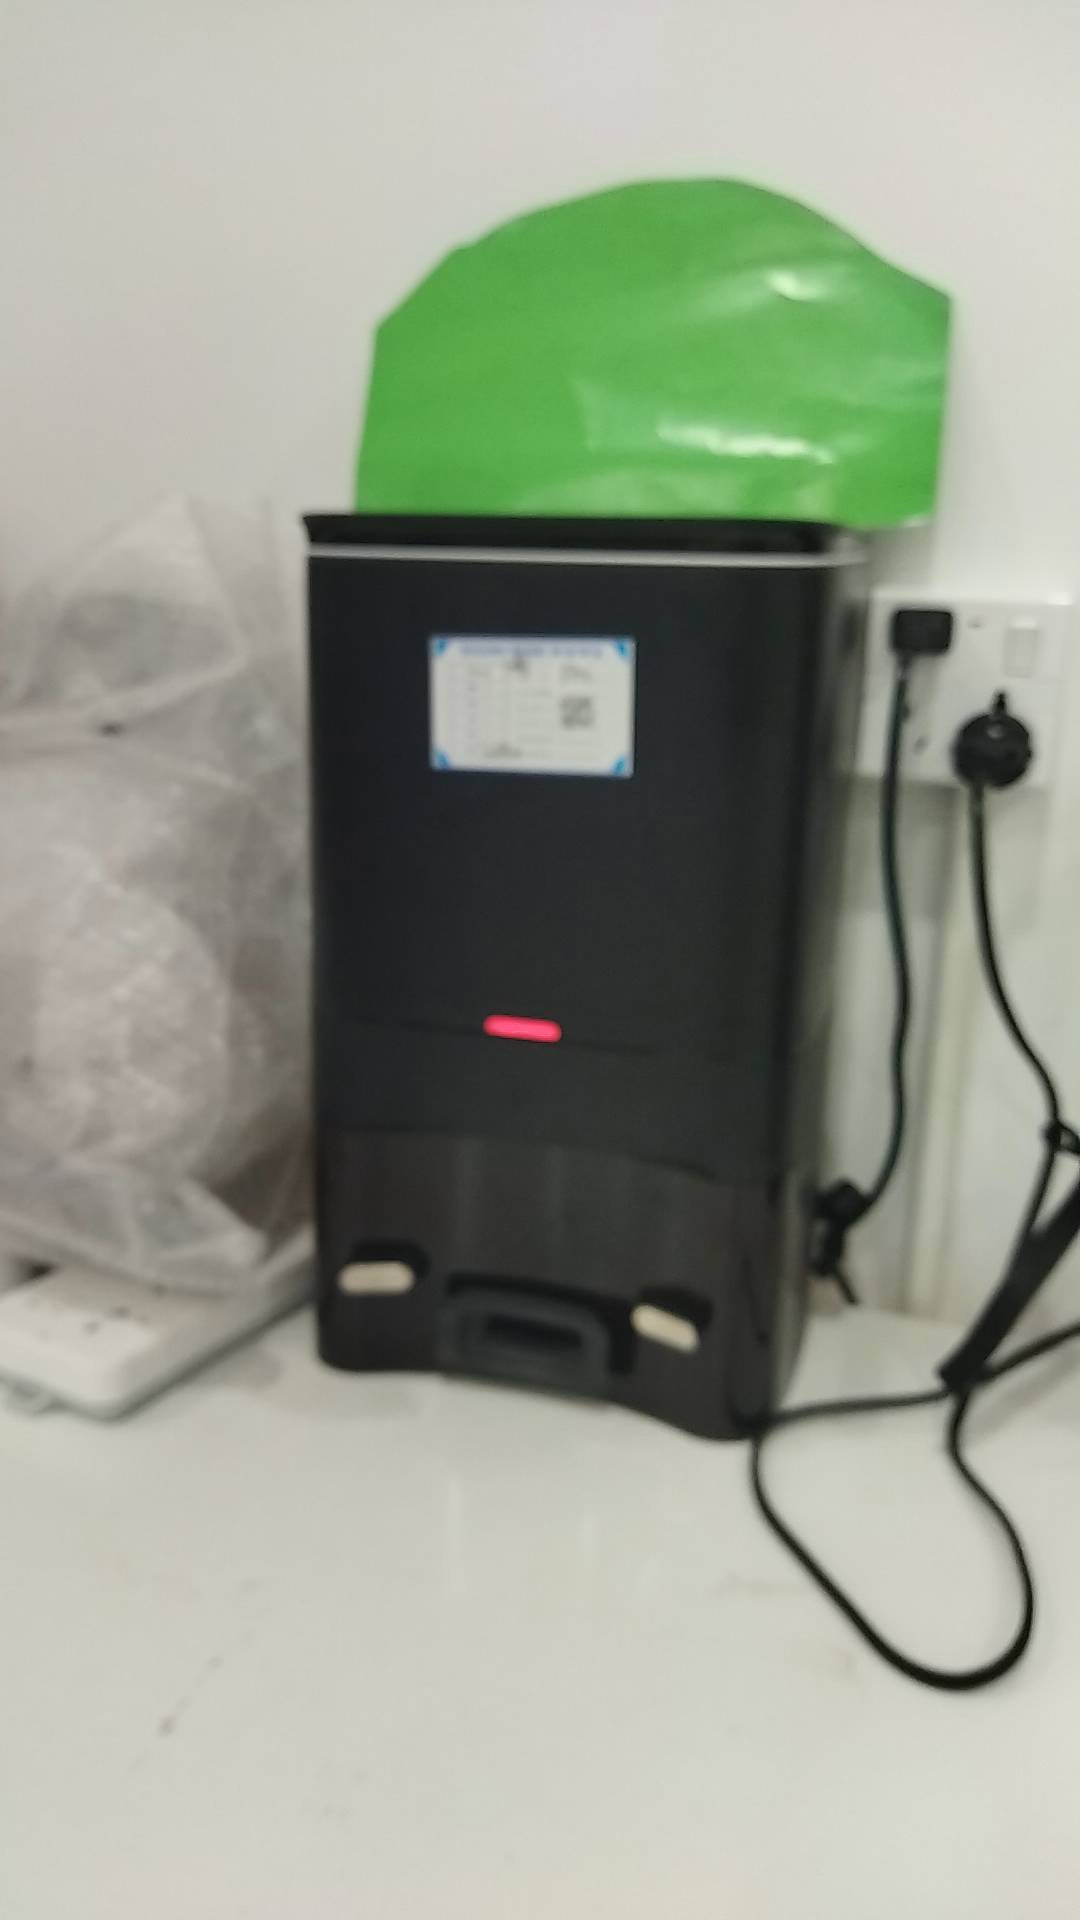dust collecting barrel: (301, 512, 868, 1443)
